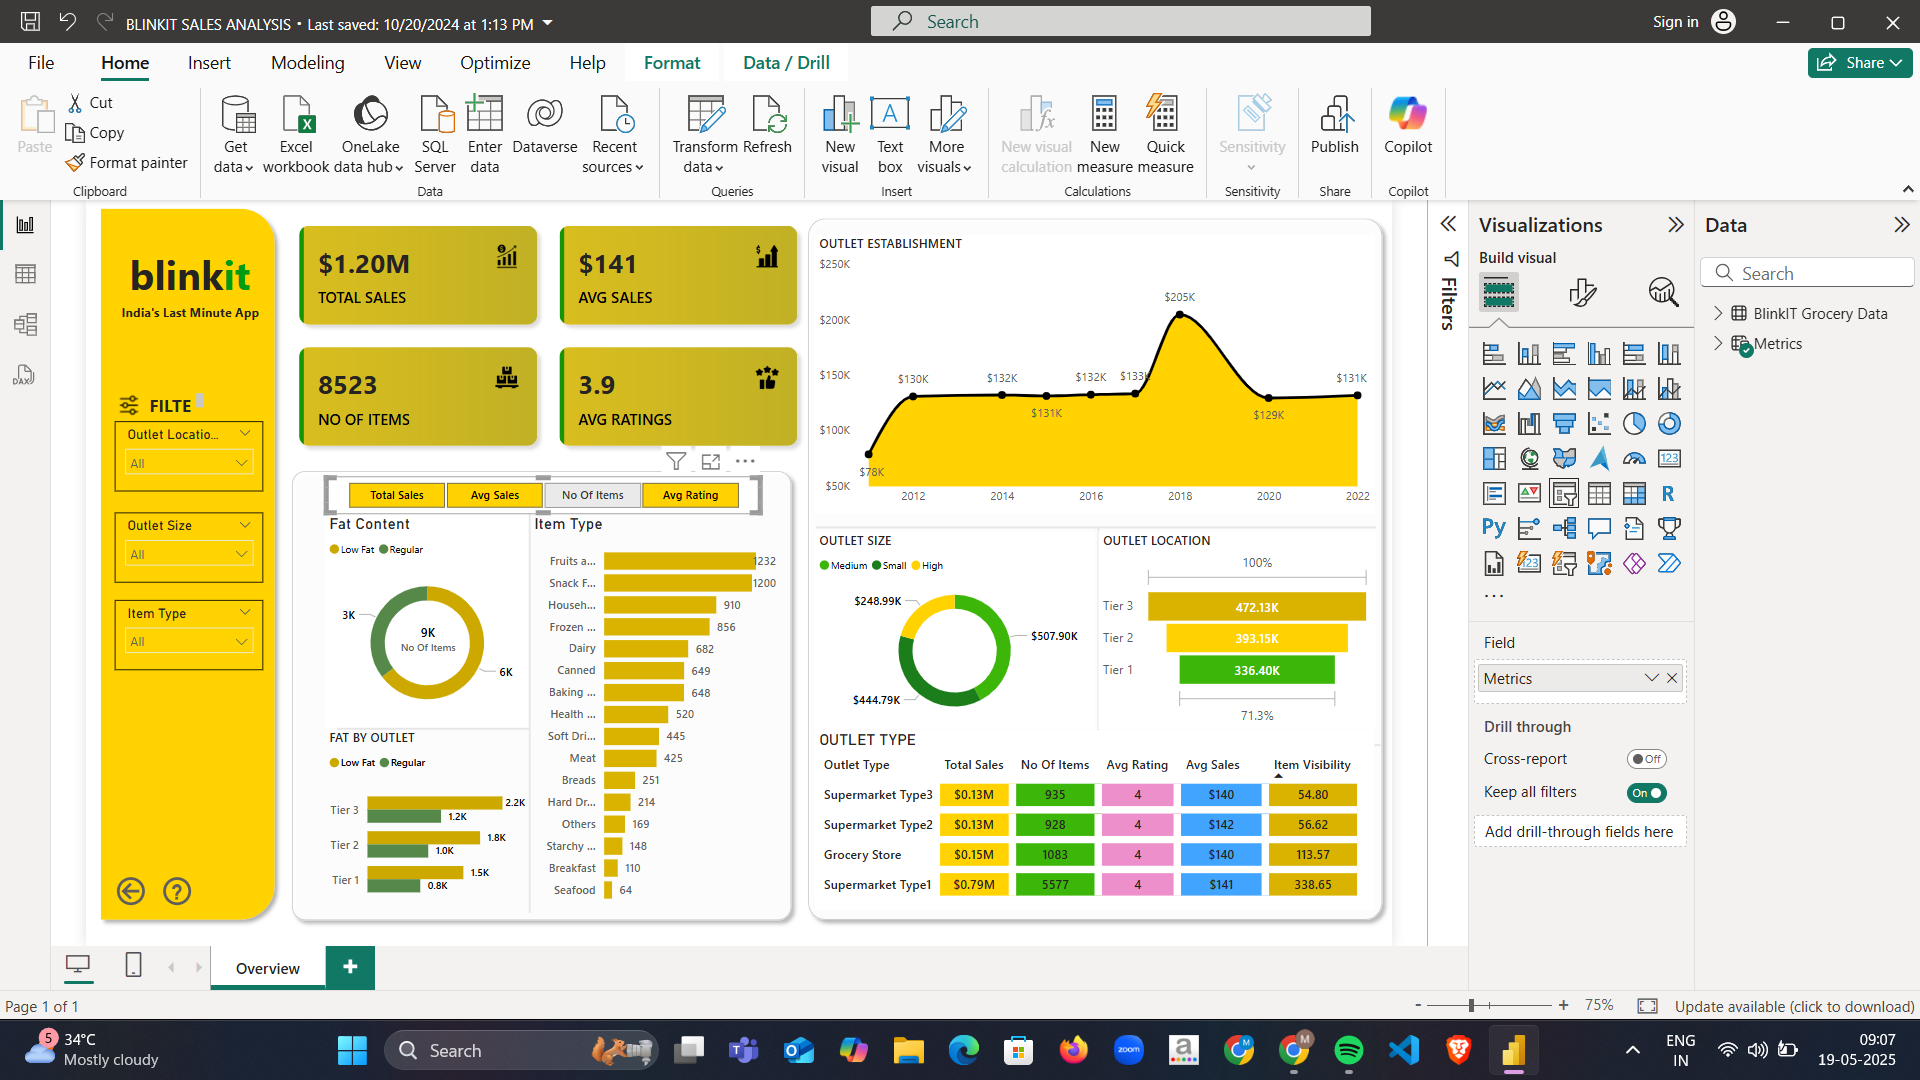

What the dashboard file says about the page in this screenshot:
{"tool":"powerbi","page":{"name":"Overview","canvas":[1400,800],"ordinal":0},"visuals":[{"type":"shape","box":[6.7,0,205,781.7],"z":0},{"type":"textbox","box":[33.5,45.6,155.5,80.4],"z":1000},{"type":"textbox","box":[26.8,105.9,170.2,40.2],"z":2000},{"type":"cardVisual","fields":{"Data":["BlinkIT Grocery Data.Total Sales","BlinkIT Grocery Data.Avg Sales","BlinkIT Grocery Data.No Of Items","BlinkIT Grocery Data.Avg Rating"]},"box":[211.8,10.7,569.7,270.8],"z":3000},{"type":"shape","box":[211.8,281.5,553.6,500],"z":4000},{"type":"donutChart","title":"Fat Content","fields":{"Y":["BlinkIT Grocery Data.Total Sales"],"Category":["BlinkIT Grocery Data.Item Fat Content"]},"box":[256,336.5,219.8,230.6],"z":5000},{"type":"slicer","title":"FAT CONTENT","fields":{"Values":["Metrics.Metrics"]},"box":[256,296.2,467.8,40.2],"z":6000},{"type":"cardVisual","fields":{"Data":["BlinkIT Grocery Data.Total Sales"]},"box":[320,436.7,93.3,66.7],"z":7000},{"type":"clusteredBarChart","title":"FAT BY OUTLET","fields":{"Y":["BlinkIT Grocery Data.Total Sales"],"Category":["BlinkIT Grocery Data.Outlet Location Type"],"Series":["BlinkIT Grocery Data.Item Fat Content"]},"box":[256.7,566.7,220,196.7],"z":8000},{"type":"shape","box":[269.4,549.6,206.4,34.9],"z":9000},{"type":"shape","box":[463.8,336.5,24.1,427.6],"z":10000},{"type":"barChart","title":"Item Type","fields":{"Y":["BlinkIT Grocery Data.Total Sales"],"Category":["BlinkIT Grocery Data.Item Type"]},"box":[475.9,336.5,269.4,427.6],"z":11000},{"type":"shape","box":[765.4,10.7,634.1,770.8],"z":12000},{"type":"lineChart","title":"OUTLET ESTABLISHMENT","fields":{"Y":["BlinkIT Grocery Data.Total Sales"],"Category":["BlinkIT Grocery Data.Outlet Establishment Year"]},"box":[781.5,37.5,600.5,298.9],"z":13000},{"type":"shape","box":[782.8,336.5,600.5,29.5],"z":14000},{"type":"donutChart","title":"OUTLET SIZE","fields":{"Category":["BlinkIT Grocery Data.Outlet Size"],"Y":["BlinkIT Grocery Data.Total Sales"]},"box":[781.5,355.2,300.3,211.8],"z":15000},{"type":"shape","box":[1071.1,351.2,29.5,233.2],"z":16000},{"type":"shape","box":[782.8,568.4,303,33.5],"z":17000},{"type":"funnel","title":"OUTLET LOCATION","fields":{"Category":["BlinkIT Grocery Data.Outlet Location Type"],"Y":["Sum(BlinkIT Grocery Data.Sales)"]},"box":[1085.5,355.5,297.3,211.8],"z":18000},{"type":"shape","box":[1085.8,568.3,302.5,32.5],"z":19000},{"type":"pivotTable","title":"OUTLET TYPE","fields":{"Rows":["BlinkIT Grocery Data.Outlet Type"],"Values":["BlinkIT Grocery Data.Total Sales","BlinkIT Grocery Data.No Of Items","BlinkIT Grocery Data.Avg Rating","BlinkIT Grocery Data.Avg Sales","Sum(BlinkIT Grocery Data.Item Visibility)"]},"box":[781.4,568.6,600,192.9],"z":20000},{"type":"slicer","fields":{"Values":["BlinkIT Grocery Data.Outlet Location Type"]},"box":[31.4,237.5,159.5,75.1],"z":21000},{"type":"slicer","fields":{"Values":["BlinkIT Grocery Data.Outlet Size"]},"box":[31.4,335.4,159.5,75.1],"z":21001},{"type":"textbox","box":[63.5,202.7,68.4,34.9],"z":21002},{"type":"slicer","fields":{"Values":["BlinkIT Grocery Data.Item Type"]},"box":[31.4,429.2,159.5,75.1],"z":21003},{"type":"image","box":[27.3,197.3,38.9,45.6],"z":21004},{"type":"actionButton","box":[28.2,721.2,49.6,40.2],"z":21005},{"type":"actionButton","box":[77.7,721.2,50.9,40.2],"z":21007}]}

Visuals, with their boxes on the page's 1400x800 design canvas (x1, y1, x2, y2). These are canvas units, not pixel positions in the 1920x1080 screenshot, which may show the page scaled, cropped or inside an application window:
shape: {"left": 7, "top": 0, "right": 212, "bottom": 782}
textbox: {"left": 34, "top": 46, "right": 189, "bottom": 126}
textbox: {"left": 27, "top": 106, "right": 197, "bottom": 146}
cardVisual - BlinkIT Grocery Data.Total Sales x BlinkIT Grocery Data.Avg Sales: {"left": 212, "top": 11, "right": 782, "bottom": 282}
shape: {"left": 212, "top": 282, "right": 765, "bottom": 782}
"Fat Content" donutChart: {"left": 256, "top": 336, "right": 476, "bottom": 567}
"FAT CONTENT" slicer: {"left": 256, "top": 296, "right": 724, "bottom": 336}
cardVisual - BlinkIT Grocery Data.Total Sales: {"left": 320, "top": 437, "right": 413, "bottom": 503}
"FAT BY OUTLET" clusteredBarChart: {"left": 257, "top": 567, "right": 477, "bottom": 763}
shape: {"left": 269, "top": 550, "right": 476, "bottom": 584}
shape: {"left": 464, "top": 336, "right": 488, "bottom": 764}
"Item Type" barChart: {"left": 476, "top": 336, "right": 745, "bottom": 764}
shape: {"left": 765, "top": 11, "right": 1400, "bottom": 782}
"OUTLET ESTABLISHMENT" lineChart: {"left": 782, "top": 38, "right": 1382, "bottom": 336}
shape: {"left": 783, "top": 336, "right": 1383, "bottom": 366}
"OUTLET SIZE" donutChart: {"left": 782, "top": 355, "right": 1082, "bottom": 567}
shape: {"left": 1071, "top": 351, "right": 1101, "bottom": 584}
shape: {"left": 783, "top": 568, "right": 1086, "bottom": 602}
"OUTLET LOCATION" funnel: {"left": 1086, "top": 356, "right": 1383, "bottom": 567}
shape: {"left": 1086, "top": 568, "right": 1388, "bottom": 601}
"OUTLET TYPE" pivotTable: {"left": 781, "top": 569, "right": 1381, "bottom": 762}
slicer - BlinkIT Grocery Data.Outlet Location Type: {"left": 31, "top": 238, "right": 191, "bottom": 313}
slicer - BlinkIT Grocery Data.Outlet Size: {"left": 31, "top": 335, "right": 191, "bottom": 410}
textbox: {"left": 64, "top": 203, "right": 132, "bottom": 238}
slicer - BlinkIT Grocery Data.Item Type: {"left": 31, "top": 429, "right": 191, "bottom": 504}
image: {"left": 27, "top": 197, "right": 66, "bottom": 243}
actionButton: {"left": 28, "top": 721, "right": 78, "bottom": 761}
actionButton: {"left": 78, "top": 721, "right": 129, "bottom": 761}
